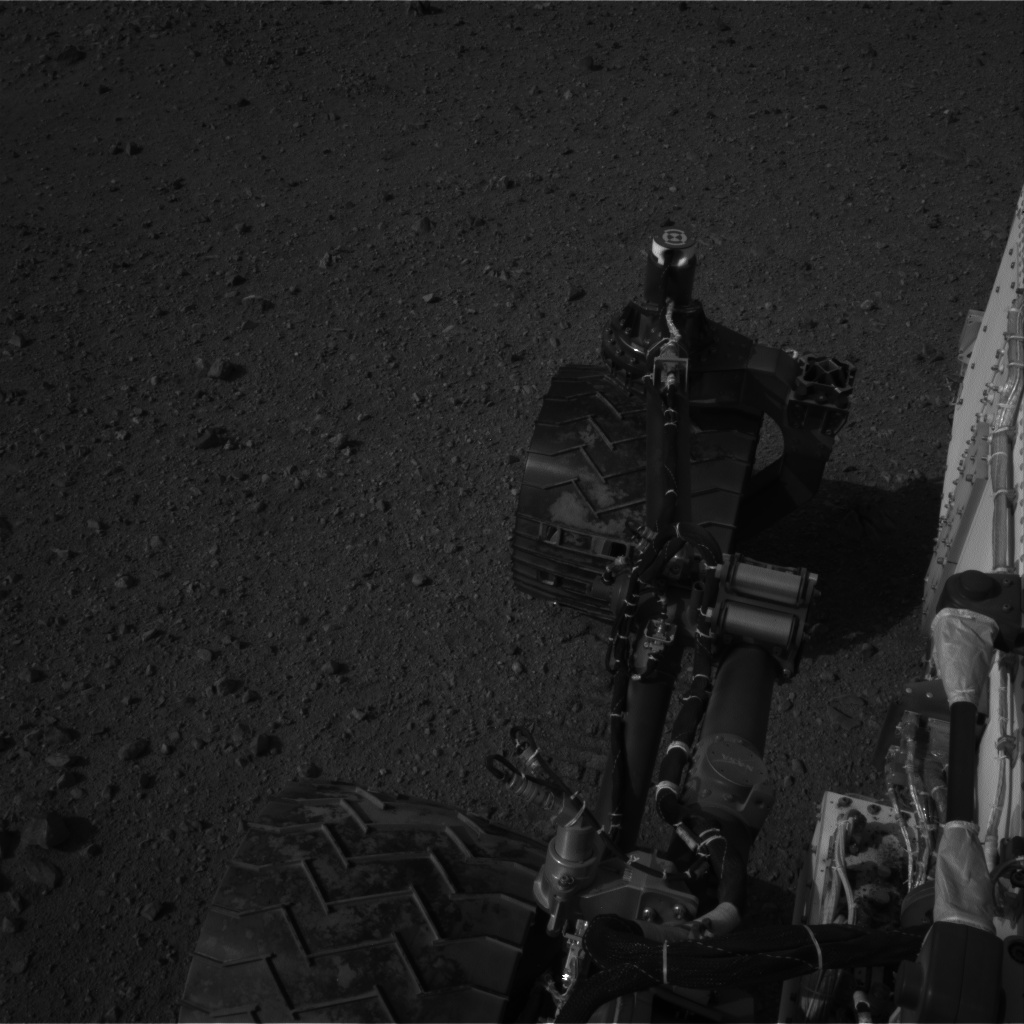soil: (10, 9, 1013, 1011), (885, 453, 913, 559)
